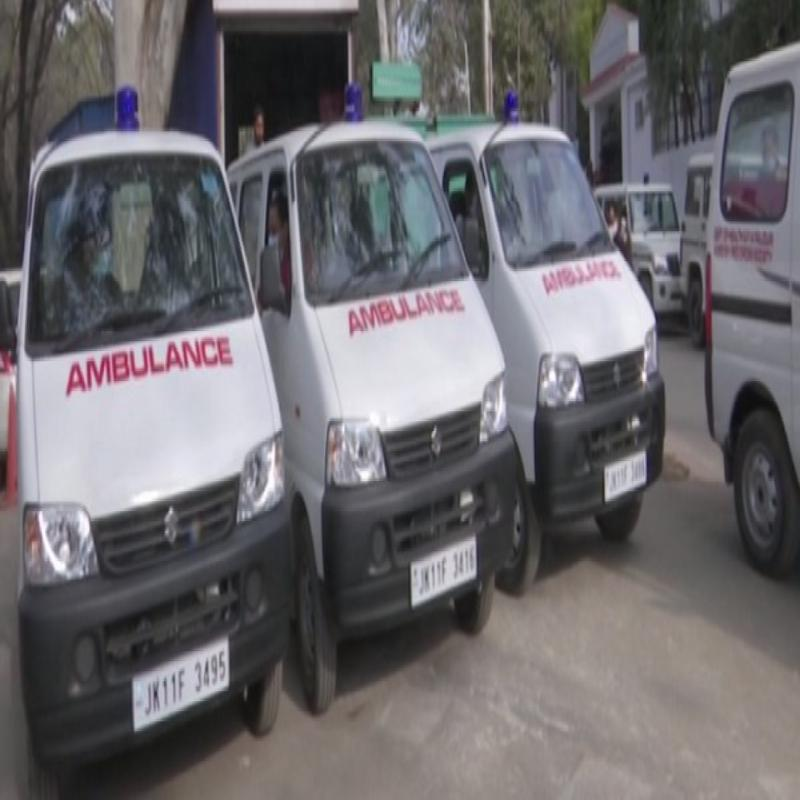ambulance: (25, 108, 284, 650), (289, 112, 495, 630), (476, 103, 690, 525)
